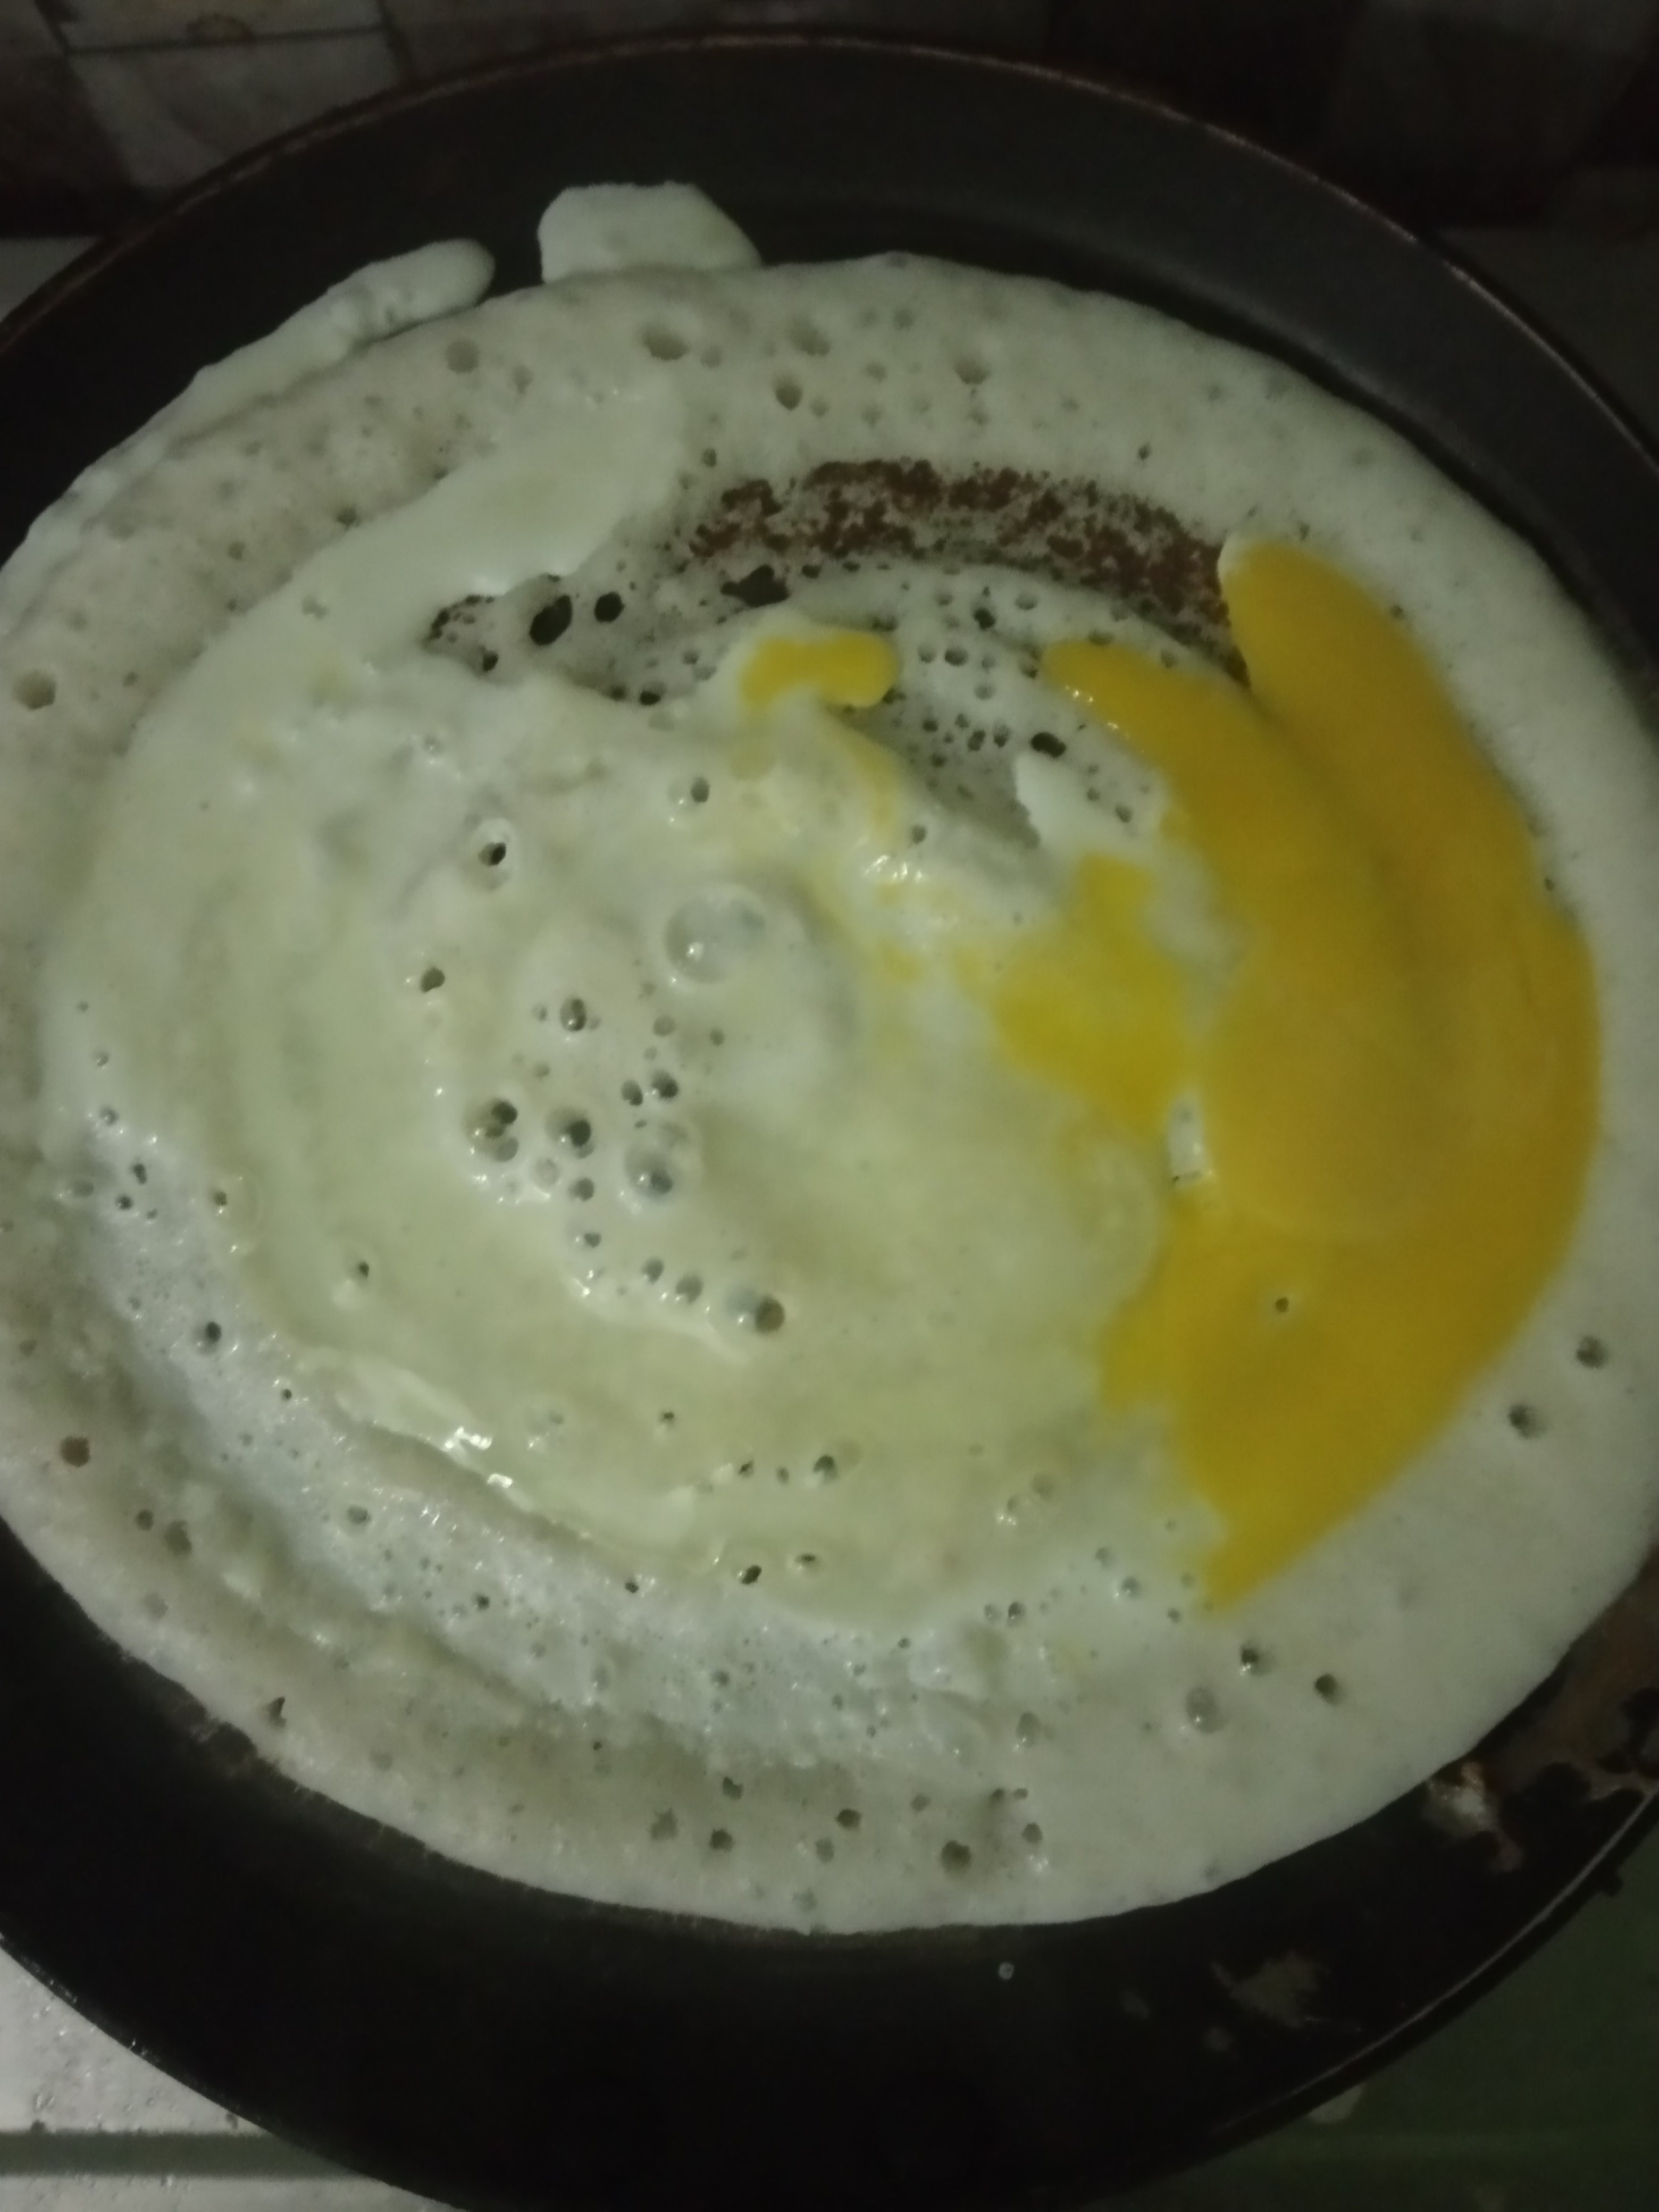food: (0, 169, 1659, 1947)
